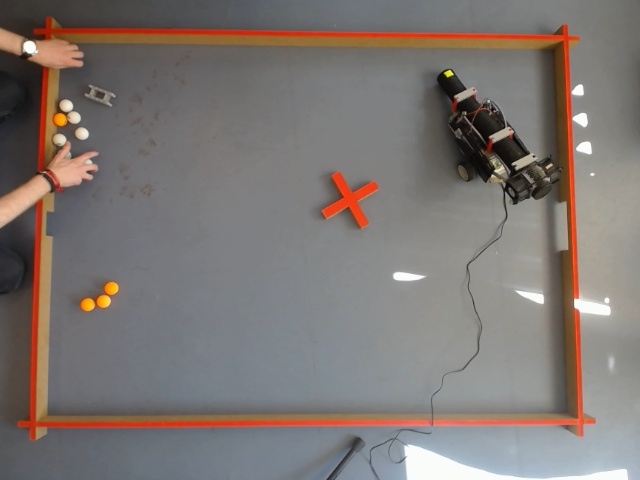orange: (94, 292, 116, 311), (90, 293, 112, 311), (78, 297, 97, 314), (103, 280, 120, 296), (54, 111, 67, 126)
robot: (436, 70, 564, 211)
white: (390, 270, 425, 283), (22, 39, 36, 55), (59, 98, 72, 113), (53, 133, 66, 147), (75, 126, 88, 140), (69, 109, 80, 124)
